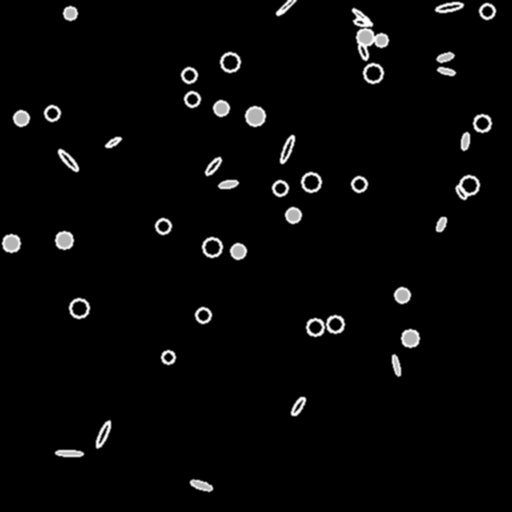pseudomonas: (94, 419, 112, 449), (57, 148, 79, 172), (279, 135, 295, 163), (351, 7, 373, 27), (289, 395, 307, 417), (275, 0, 299, 16), (204, 156, 222, 176), (435, 2, 463, 12), (190, 479, 212, 491), (454, 184, 468, 200), (357, 42, 369, 60), (391, 355, 401, 375), (218, 179, 238, 189), (435, 216, 447, 232), (105, 136, 121, 148), (436, 52, 454, 62), (460, 132, 470, 150), (55, 450, 83, 456), (437, 67, 455, 75), (354, 18, 370, 26)
synechocystis: (246, 107, 264, 125), (302, 173, 320, 191), (203, 238, 221, 256), (460, 176, 478, 194), (221, 53, 239, 71), (70, 299, 88, 317), (364, 64, 382, 82), (402, 330, 418, 346), (327, 316, 343, 332), (307, 319, 323, 335), (56, 232, 72, 248), (357, 29, 373, 45), (474, 115, 490, 131), (3, 235, 19, 251), (286, 208, 300, 222), (273, 181, 287, 195), (395, 288, 409, 302), (185, 92, 199, 106), (352, 177, 366, 191), (196, 308, 210, 322), (14, 111, 28, 125), (45, 106, 59, 120), (182, 68, 196, 82), (480, 4, 494, 18), (231, 244, 245, 258), (156, 219, 170, 233), (214, 101, 228, 115), (162, 351, 174, 363), (375, 34, 387, 46), (64, 7, 76, 19)
